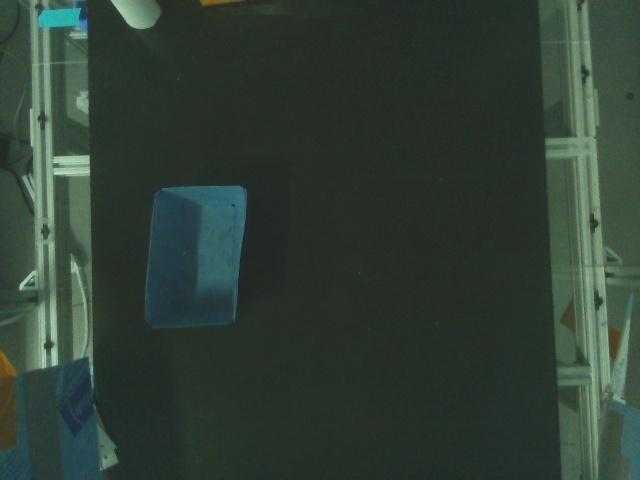cardboard: (143, 183, 248, 329), (109, 0, 163, 30), (197, 0, 250, 9)
